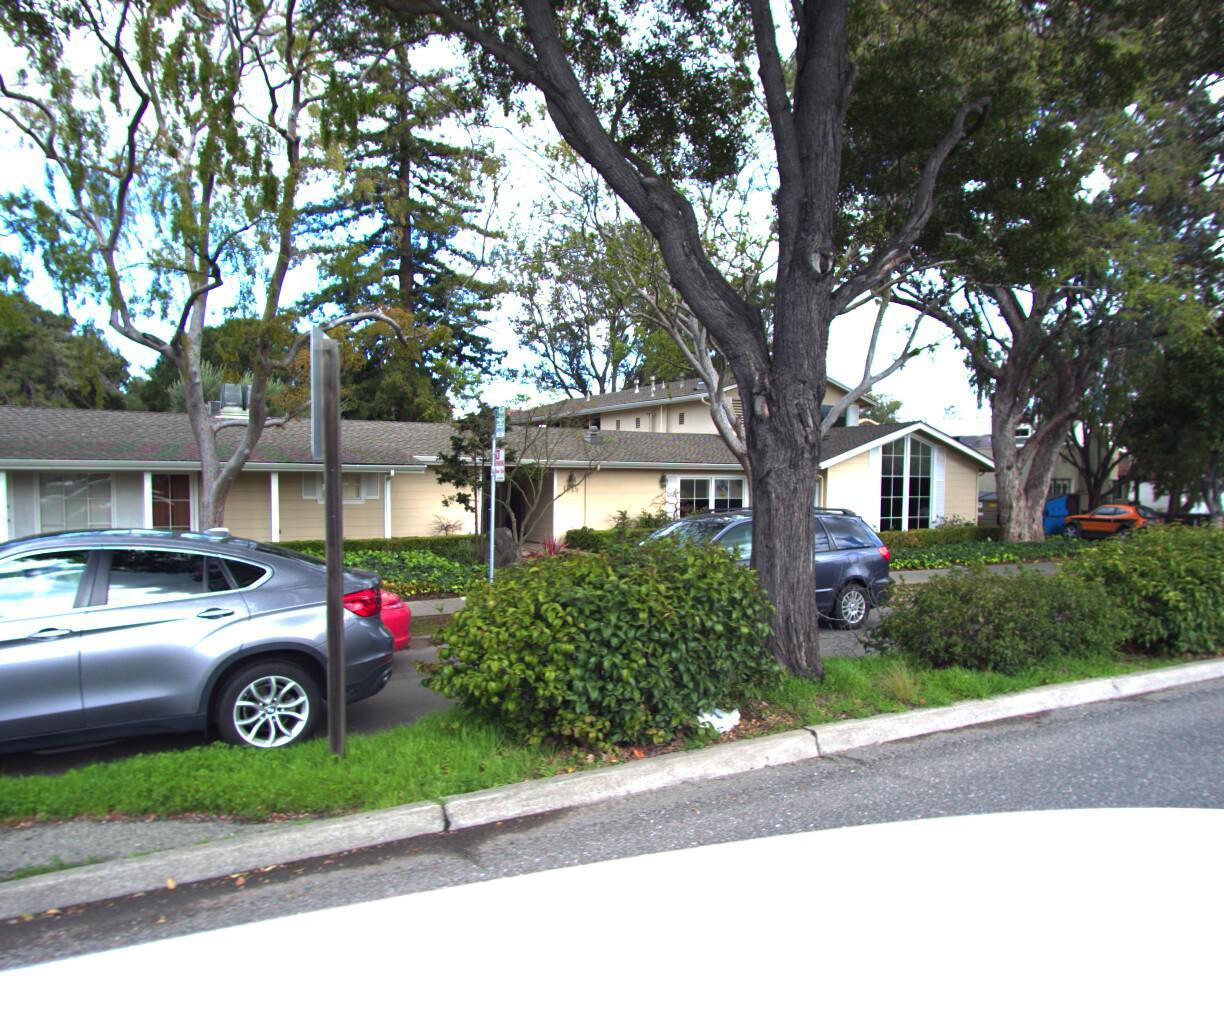car: (0, 511, 417, 886), (0, 543, 429, 748), (533, 500, 916, 660), (1049, 501, 1174, 550), (1195, 498, 1224, 534)
